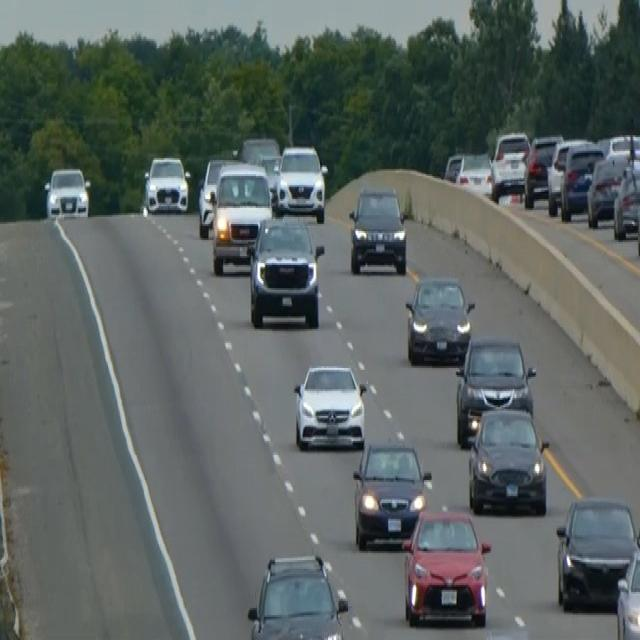car: (401, 505, 491, 627), (554, 492, 639, 612), (454, 332, 536, 447), (467, 406, 549, 516), (246, 551, 349, 638), (352, 438, 432, 550), (247, 213, 324, 329), (292, 361, 367, 450), (404, 272, 474, 364), (274, 142, 328, 220), (586, 150, 639, 228), (559, 140, 605, 220), (197, 155, 240, 238), (546, 135, 589, 215), (489, 130, 531, 201), (523, 134, 563, 206), (143, 153, 189, 213), (43, 165, 90, 219), (615, 539, 639, 638), (612, 160, 639, 240), (443, 150, 491, 188), (238, 135, 280, 169), (597, 132, 639, 162), (635, 174, 639, 265)
jeep: (347, 183, 408, 276)
minivan: (209, 162, 272, 274)
